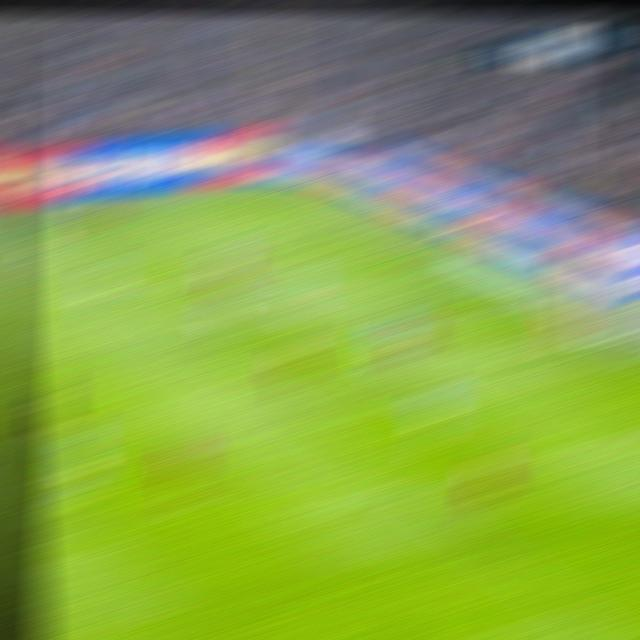bigarea_top_inner: (102, 281, 143, 301)
bigarea_top_outter: (383, 241, 425, 252)
bottom_arc_area_intersection: (386, 484, 432, 504)
corner: (265, 186, 304, 191)
smallarea_top_inner: (416, 317, 451, 330)
smallarea_top_outter: (505, 301, 546, 310)
top_arc_area_intersection: (212, 363, 262, 382)
